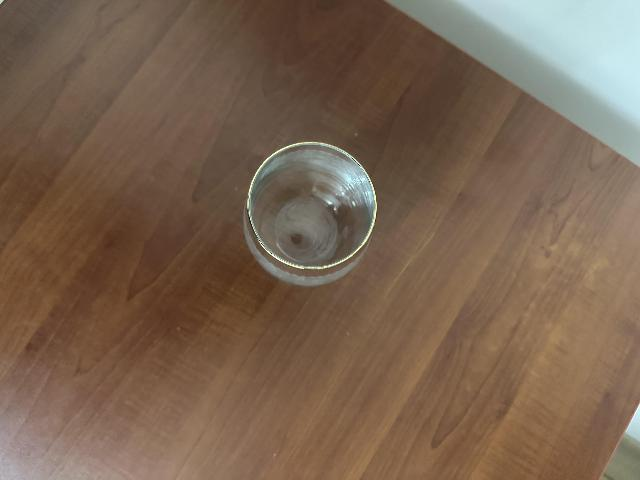Cam: (240, 143, 383, 278)
